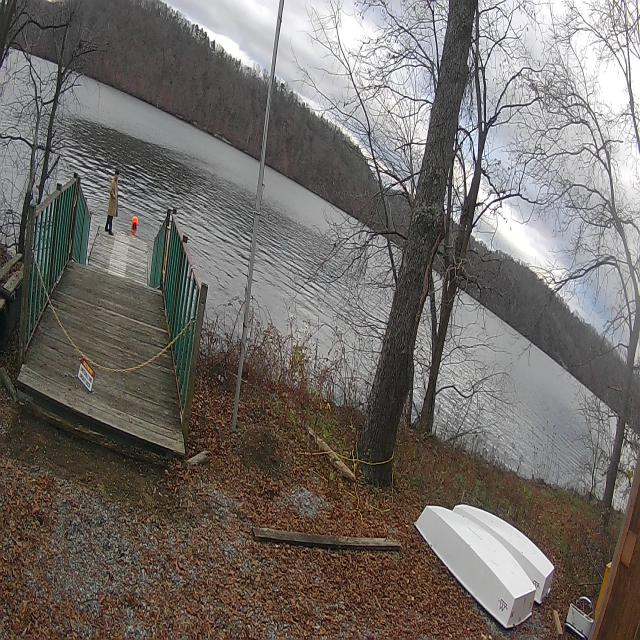Buoy: (131, 215, 138, 230)
